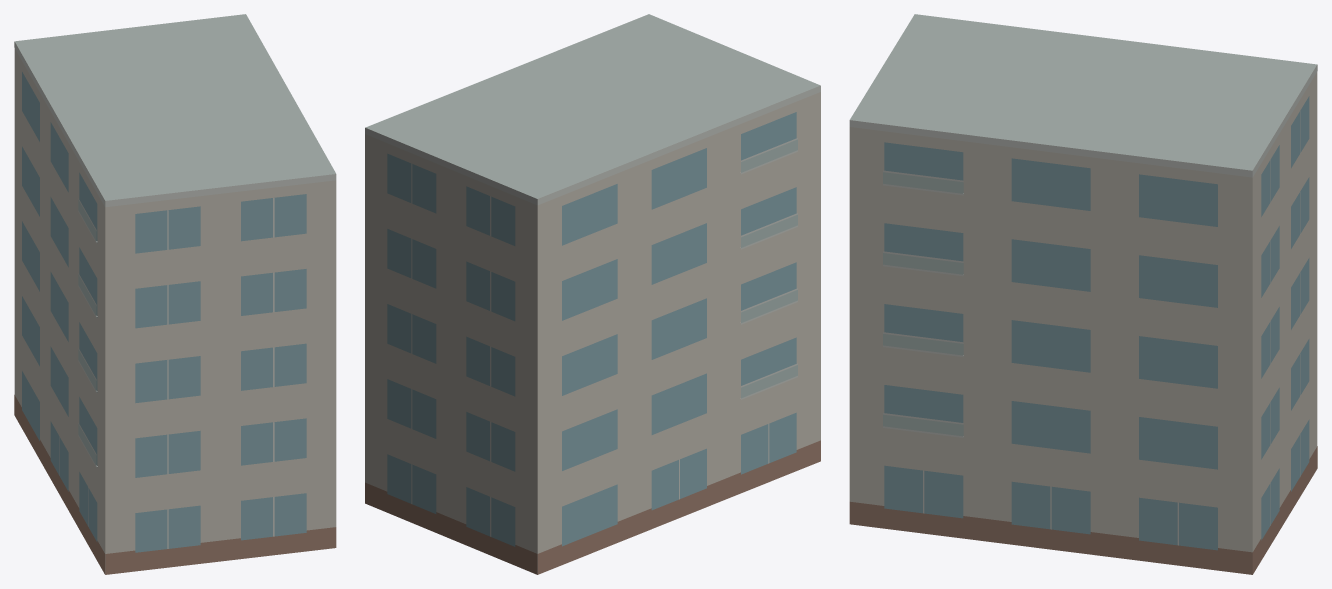
File: survey-upis-32880537.glb
3 views of the same model, side by side, from view 1: azimuth 30°, elevation 25°; view 2: azimuth 150°, elevation 25°; view 3: azimuth 270°, elevation 25° (orthographic). The views are drawn at different scales.
Parts seen in each view (by area): view 1: survey-upis-32880537.tmp; view 2: survey-upis-32880537.tmp; view 3: survey-upis-32880537.tmp.
Boxes of the visible parts, x1,y1,x2,y2 form: survey-upis-32880537.tmp: (14, 14, 336, 574); survey-upis-32880537.tmp: (365, 14, 820, 574); survey-upis-32880537.tmp: (849, 14, 1317, 574).
Size of the model in its own units: 11.9 by 14.3 by 15.01.
